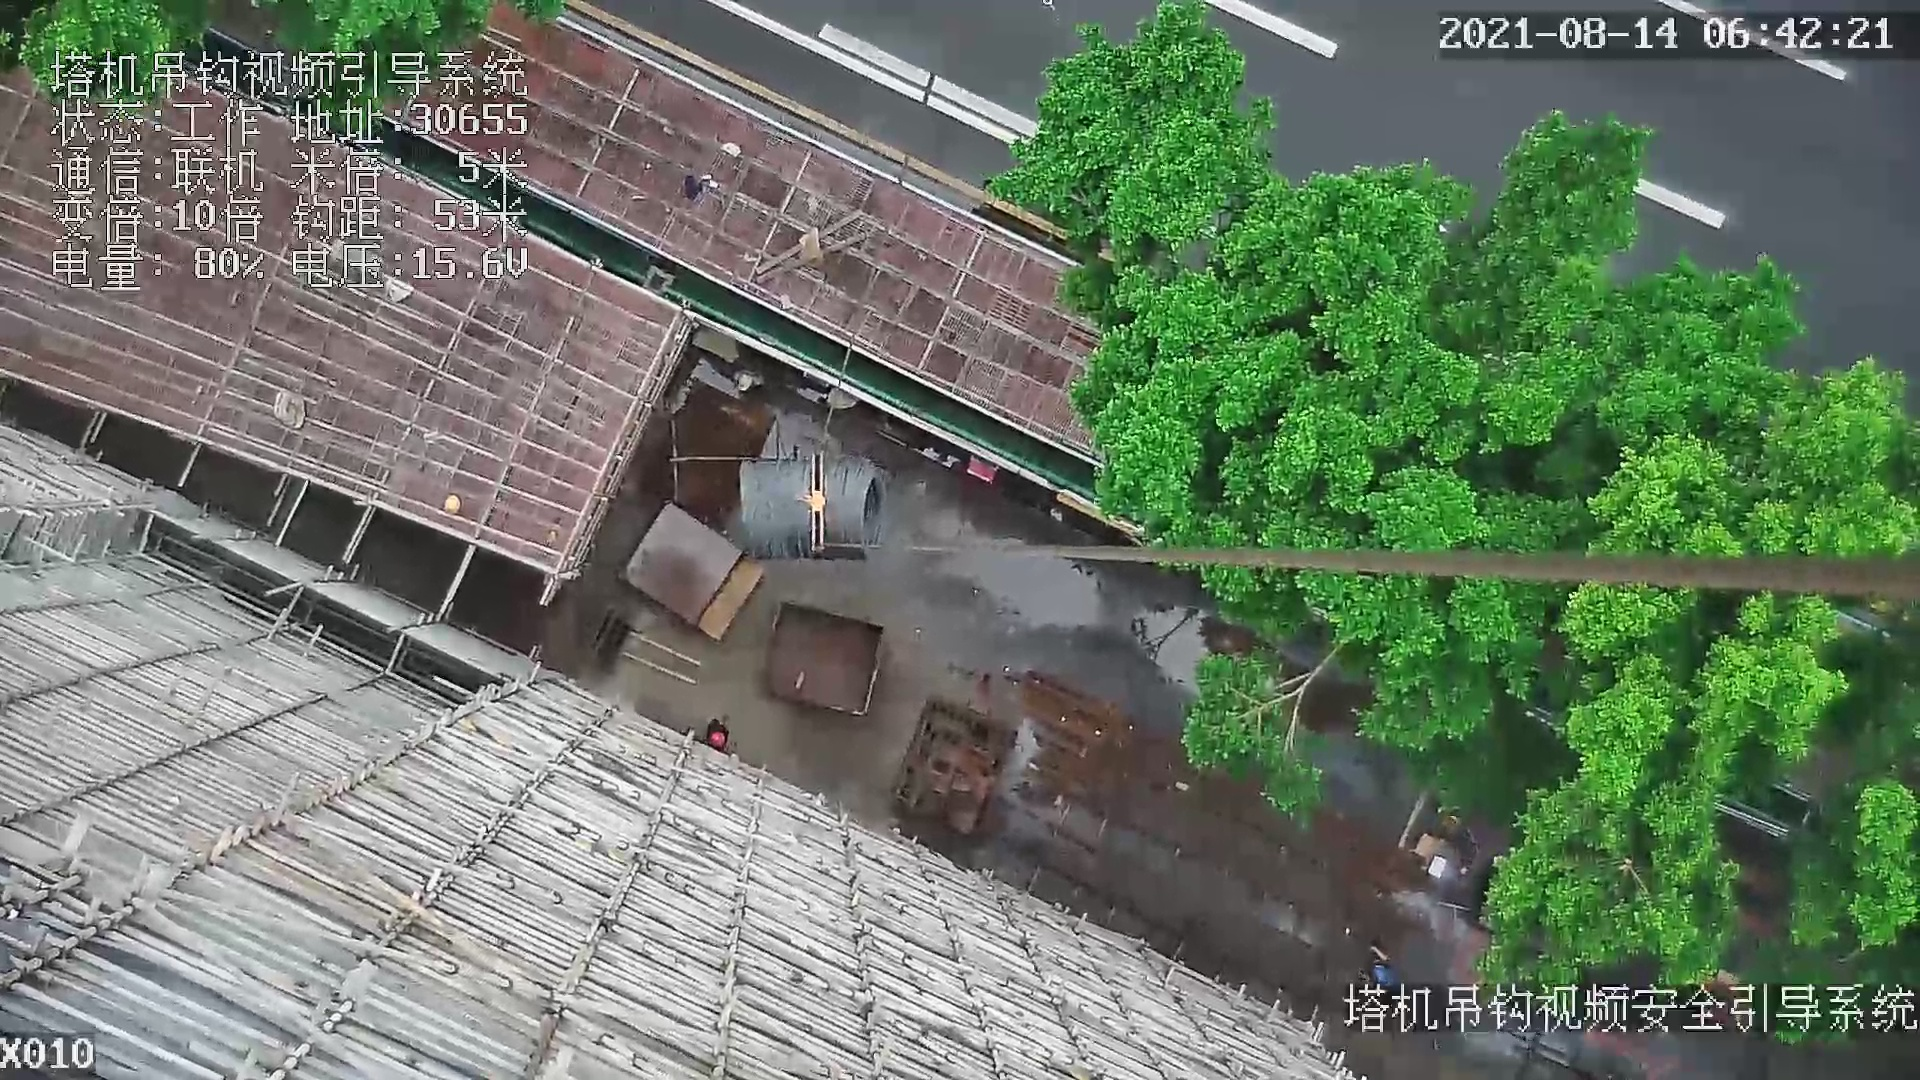helmet: (710, 733, 726, 748)
hook: (792, 447, 835, 554)
person: (704, 712, 736, 754)
